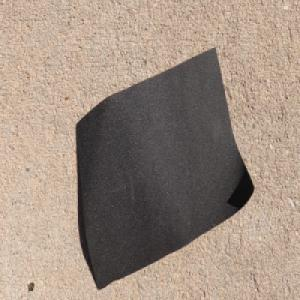PaintChip: (75, 46, 255, 289)
